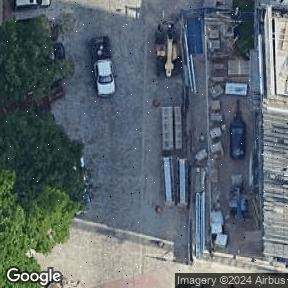vegetation: (0, 108, 84, 288), (0, 15, 76, 107)
